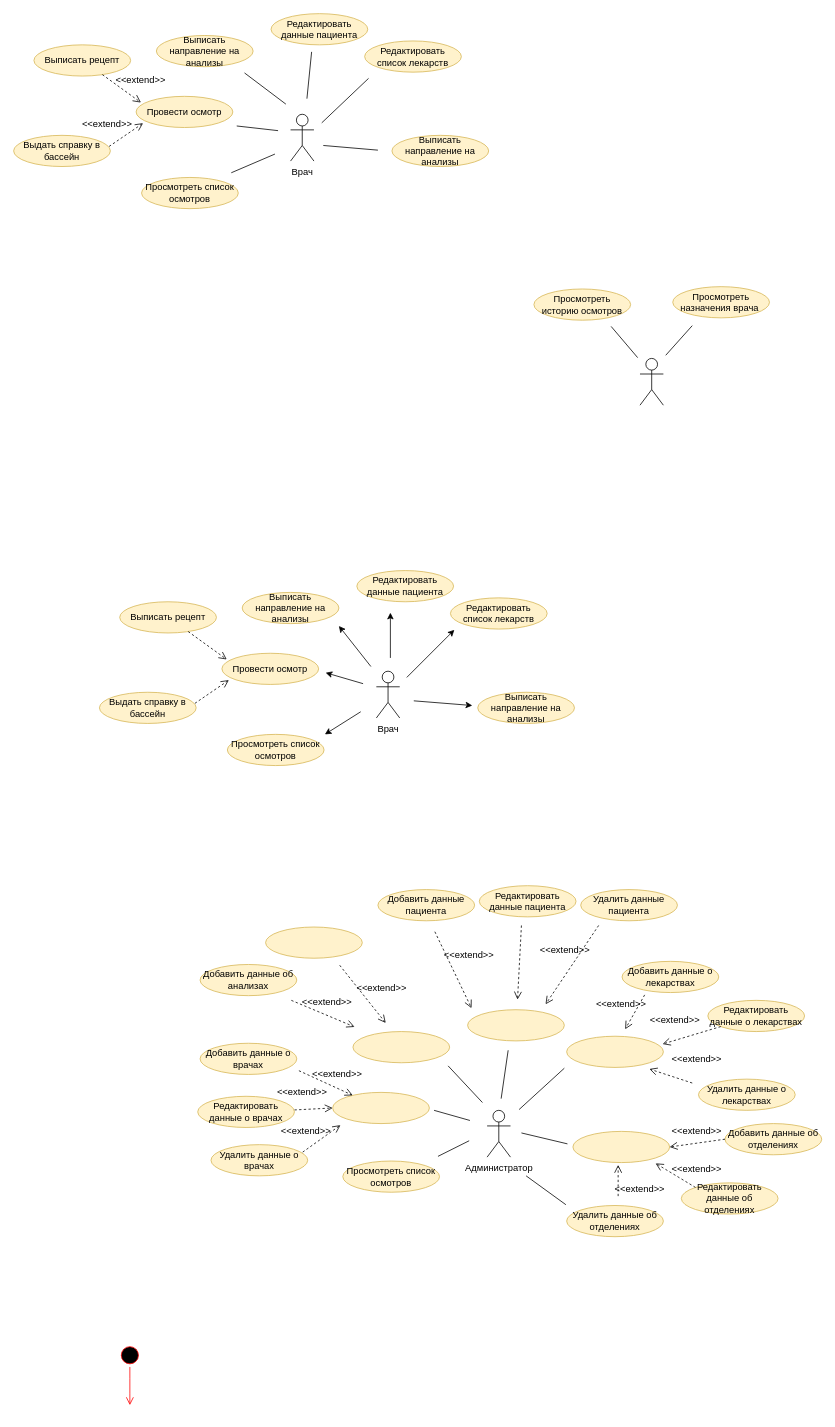
This 835x1427 diagram has some shape labels left out. Each missing label, with the centre of its shape:
Использовать данные о врачах: (x=380, y=1108)
Использовать данные о лекарствах: (x=614, y=1051)
Использовать данные об отделениях: (x=621, y=1147)
Использовать данные пациента: (x=515, y=1025)
Использовать данные по результатам анализов: (x=401, y=1047)
Пациент: (x=651, y=381)
Редактировать данные об анализах: (x=313, y=942)
